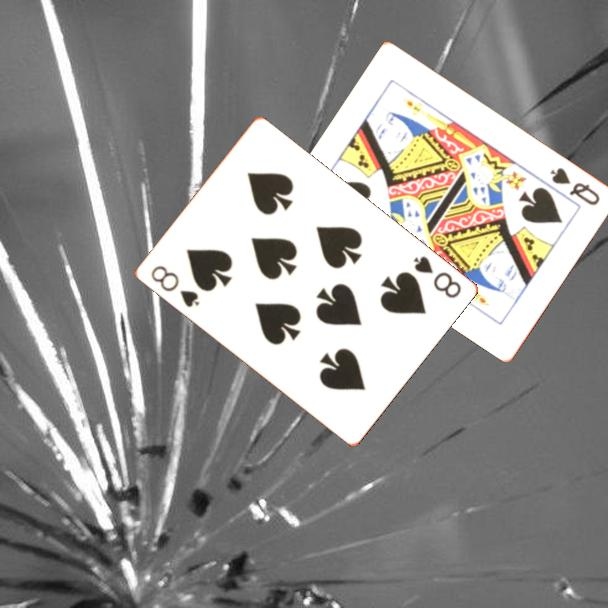s08: (409, 252, 464, 301), (147, 262, 202, 310)
s12: (547, 164, 603, 208)
